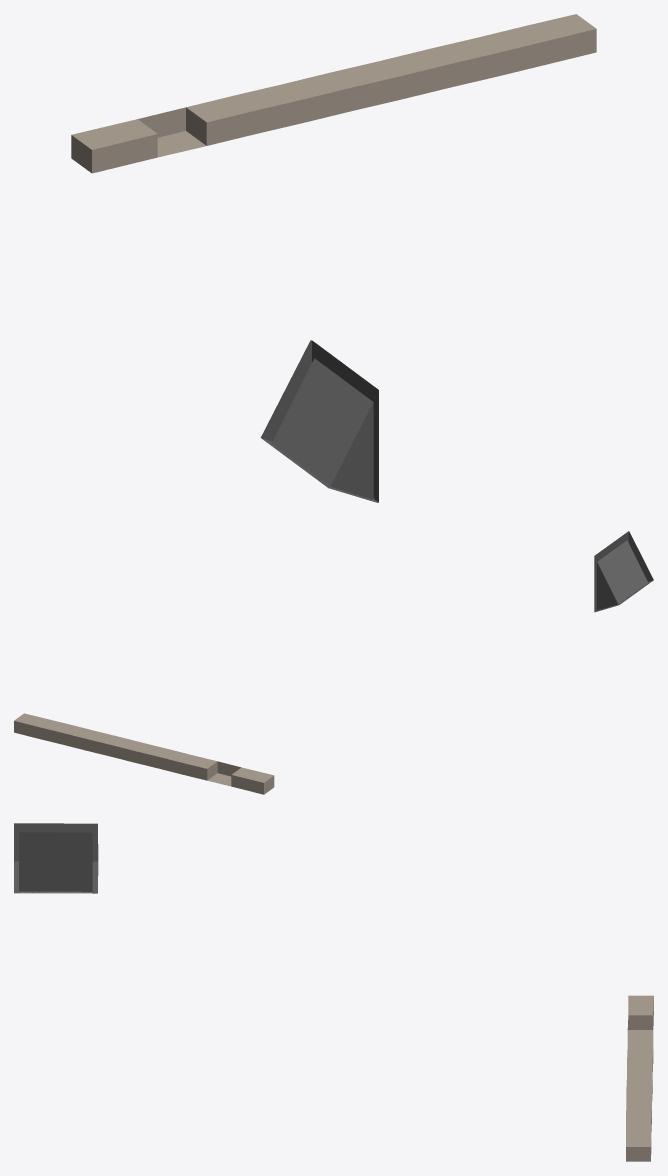
3 views of the same model, one above another, from view 1: azimuth 30°, elevation 25°; view 2: azimuth 150°, elevation 25°; view 3: azimuth 270°, elevation 25° (orthographic). The views are drawn at different scales.
Bounding box in the file's own units: 1.49 × 0.3718 × 1.75.
